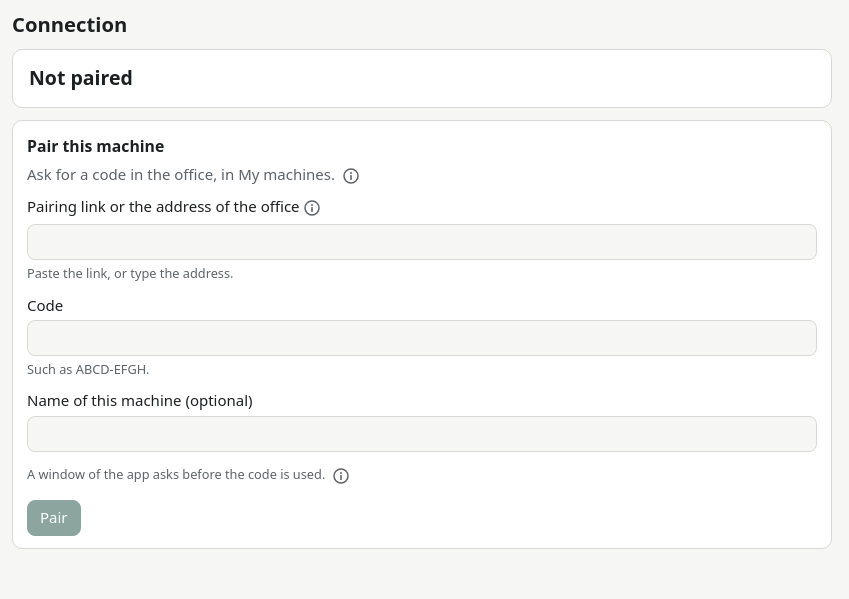
Test case: pairing › takes the address and the code out of a pasted link, and asks for no code of its own
The image size is (849, 599).
Type "escritoriio://pair?server=https%3A%2F%2Foffice.example&code=ABCD-EFGH" into the field labelled "Pairing link or the address of the office" at x=422, y=242, box x1=27 y1=224 x2=817 y2=260
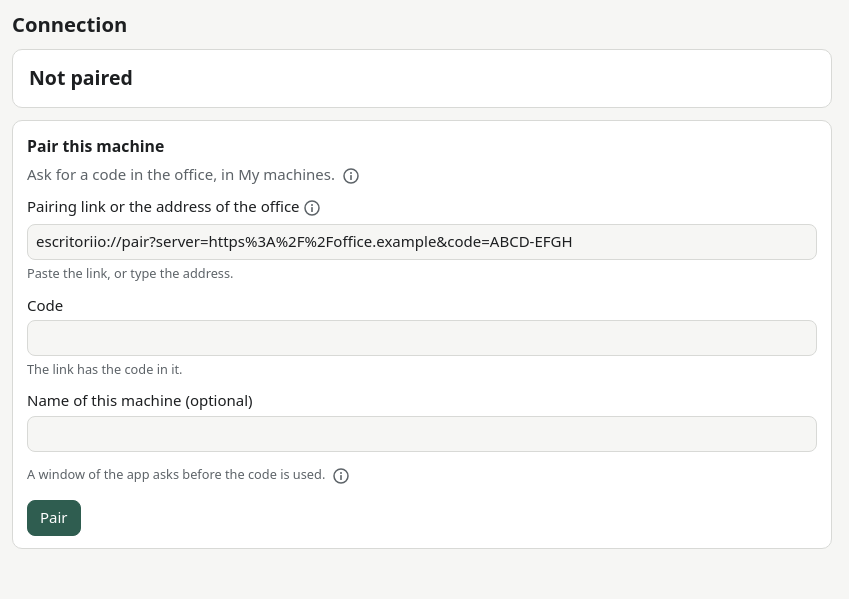
Check: the field labelled "Code" is disabled, box x1=27 y1=320 x2=817 y2=356
Click the button "Pair" at x=54, y=518, box x1=27 y1=500 x2=81 y2=536
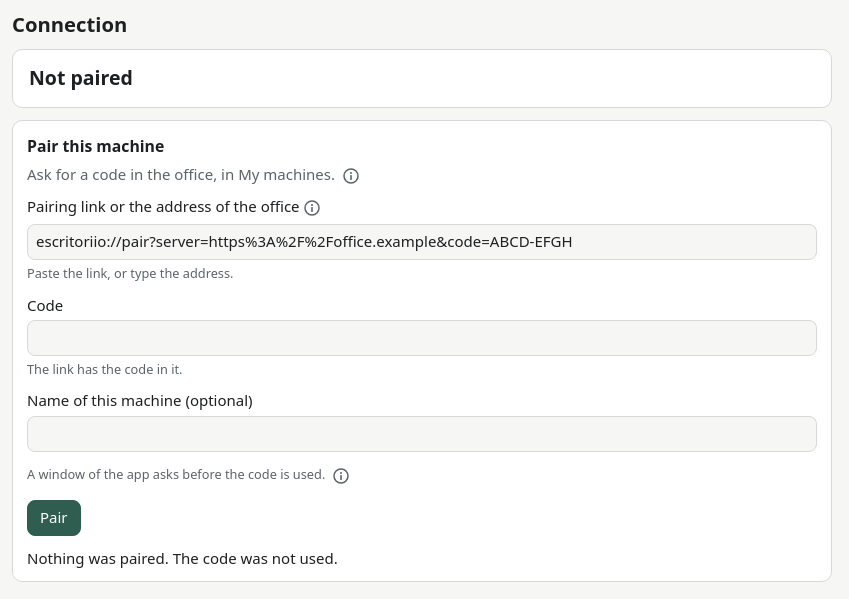
Check: the text "Nothing was paired. The code was not used." is shown, box x1=27 y1=548 x2=338 y2=568
